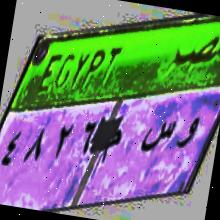2: (52, 120, 74, 164)
4: (0, 124, 21, 175)
6: (75, 116, 98, 162)
8: (20, 126, 46, 170)
meem: (98, 122, 125, 168)
seen: (137, 111, 176, 163)
waw: (172, 107, 201, 158)
